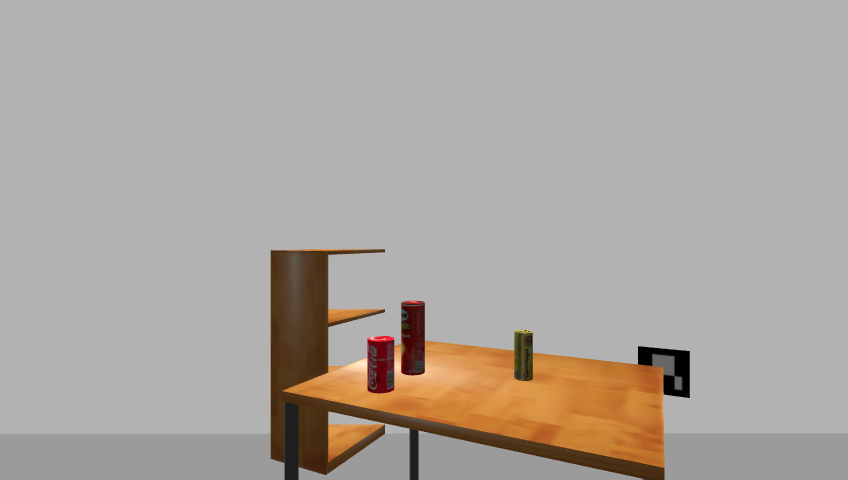aruco marker: (633, 345, 695, 400)
biscuits pack: (513, 330, 535, 382)
bookshelf: (266, 246, 390, 480)
coke can: (366, 336, 396, 394)
dinner table: (275, 342, 672, 480)
pringles can: (398, 301, 427, 377)
